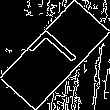L_SE: (25, 26, 85, 84)
